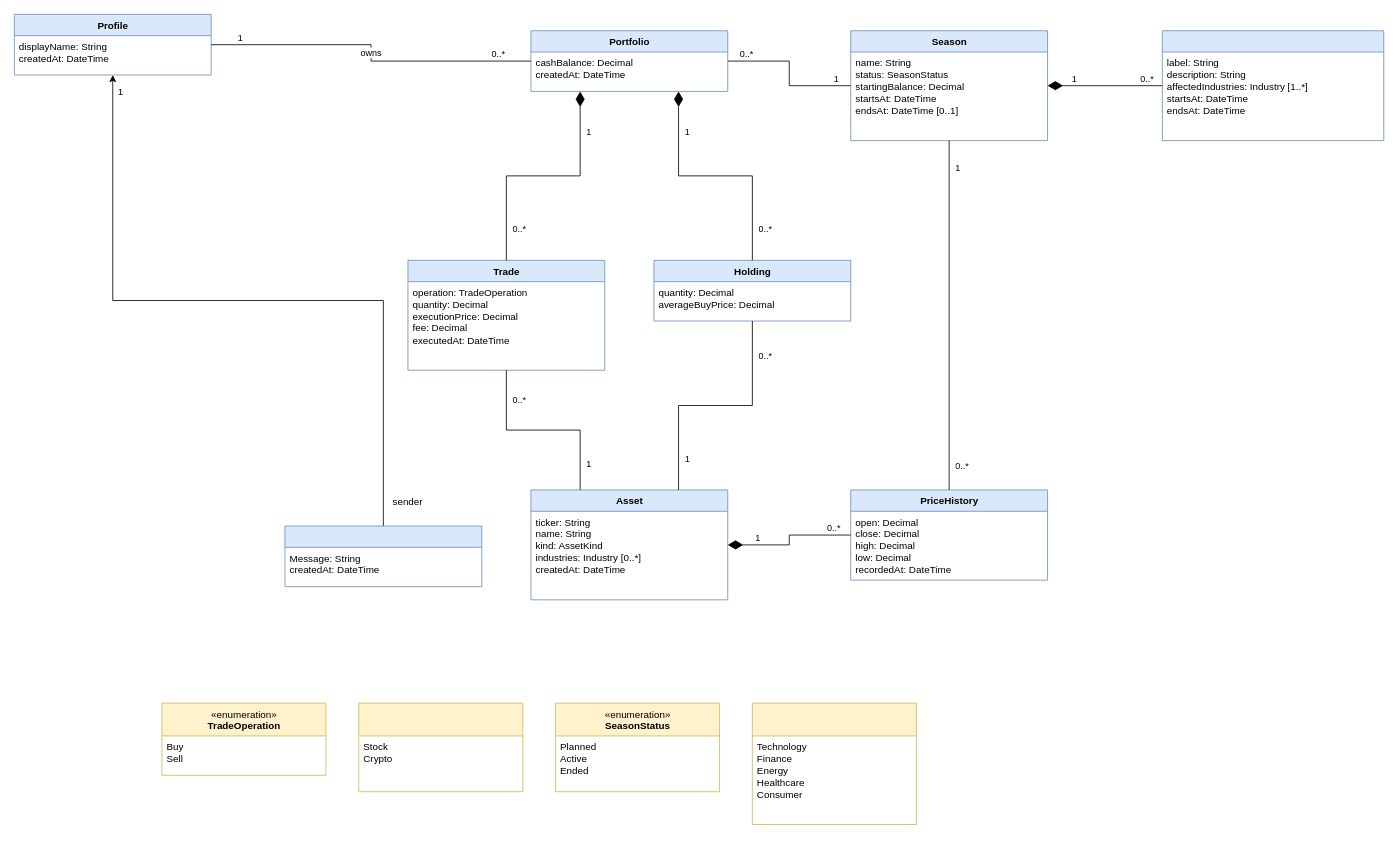
Image size: 1398x841. Some labels were removed from this diagram. The box of each missing label's shape, as (x1, y1, x2, y2) in pixels:
ChatMessage: (284, 525, 482, 587)
MarketEvent: (1162, 30, 1384, 141)
«enumeration» AssetKind: (358, 702, 523, 792)
«enumeration» Industry: (752, 702, 916, 825)
